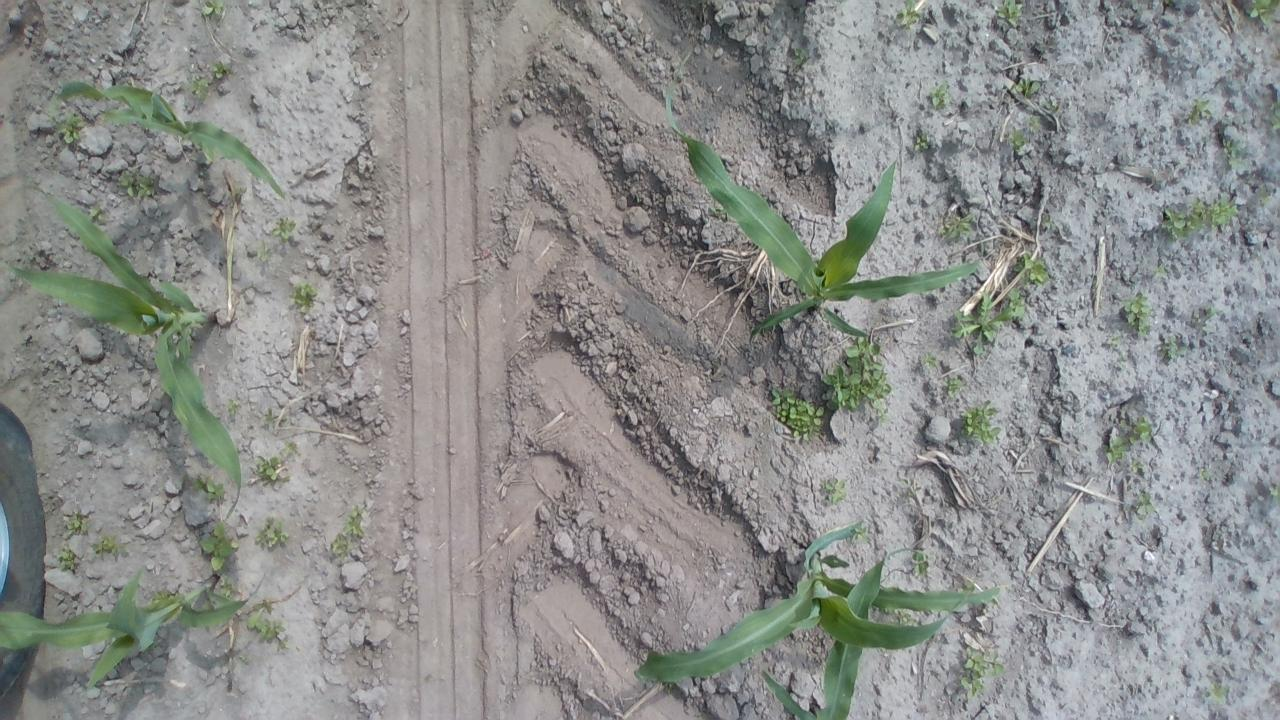Maize: (664, 49, 988, 350), (0, 188, 241, 520), (634, 524, 1000, 682), (46, 80, 292, 206), (0, 566, 249, 690), (762, 548, 887, 720)
Weeds: (819, 334, 892, 423), (951, 287, 1024, 361), (1160, 196, 1241, 246), (770, 385, 823, 443), (192, 518, 242, 572), (1102, 417, 1152, 464), (959, 646, 1004, 697), (246, 599, 290, 649), (331, 502, 367, 559), (959, 399, 1003, 444), (1012, 248, 1050, 290), (1120, 288, 1150, 336), (118, 166, 160, 200), (254, 512, 290, 548), (936, 209, 976, 240), (51, 110, 85, 144), (90, 532, 130, 560), (288, 279, 320, 314), (1244, 0, 1280, 30), (254, 454, 291, 481), (192, 472, 224, 502), (894, 0, 921, 32), (928, 80, 954, 112), (1186, 96, 1212, 128), (1222, 140, 1248, 170), (819, 478, 850, 503), (64, 511, 92, 538), (1193, 303, 1216, 335), (996, 0, 1022, 28), (1009, 76, 1041, 98), (1134, 490, 1156, 520), (1162, 335, 1188, 360), (271, 216, 298, 240), (882, 606, 914, 626), (943, 376, 969, 399), (55, 546, 78, 572), (192, 0, 226, 16), (911, 548, 930, 576), (226, 184, 248, 207), (1208, 682, 1229, 706), (1006, 127, 1026, 152), (90, 201, 110, 224), (208, 61, 233, 79), (148, 590, 180, 604), (849, 525, 871, 545), (190, 78, 210, 98), (220, 574, 233, 602), (911, 133, 930, 152), (918, 350, 938, 368), (260, 406, 278, 426), (957, 575, 976, 593), (224, 397, 242, 416), (1269, 99, 1280, 130), (708, 201, 728, 217), (256, 240, 270, 262), (1256, 185, 1272, 204), (1038, 97, 1058, 112), (280, 439, 296, 457), (793, 47, 809, 65), (1024, 114, 1041, 130), (1102, 334, 1122, 346), (1152, 264, 1168, 278), (1269, 485, 1280, 504), (1040, 213, 1052, 229), (1199, 467, 1212, 481), (1129, 461, 1144, 473), (1118, 352, 1126, 369), (148, 639, 160, 649), (663, 682, 673, 693), (232, 293, 240, 305), (779, 320, 785, 328)
